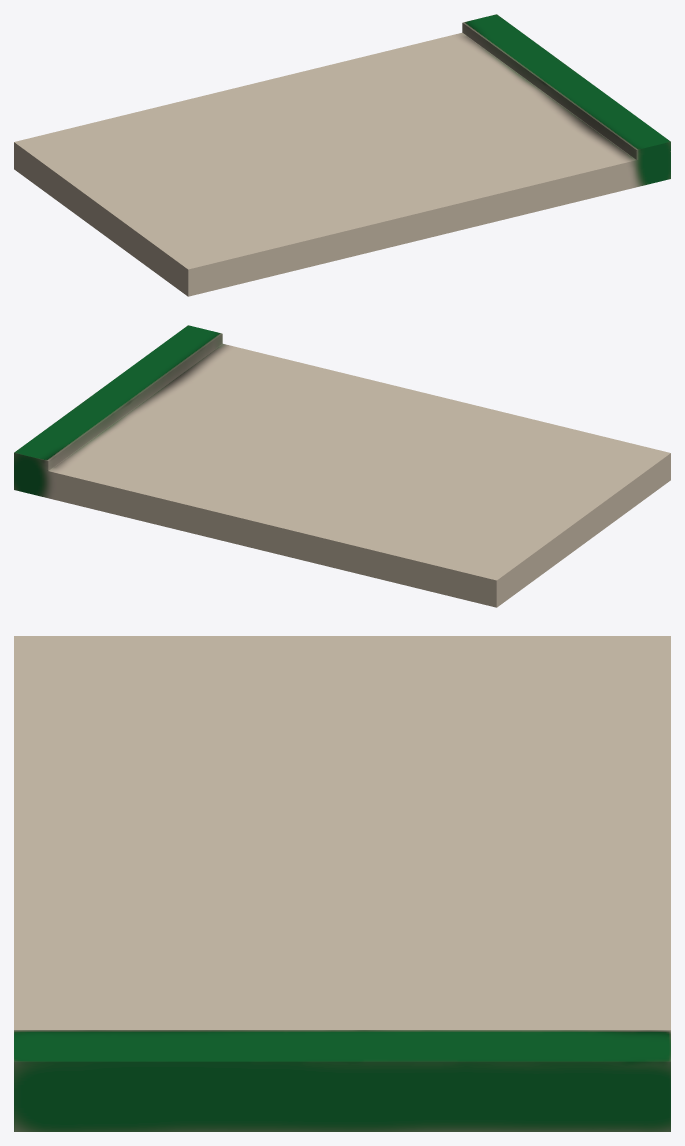
Rendered from notepad.fbx.
3 views of the same model, one above another, from view 1: azimuth 30°, elevation 25°; view 2: azimuth 150°, elevation 25°; view 3: azimuth 270°, elevation 25° (orthographic). The views are drawn at different scales.
Visible parts, largest first — view 1: Cube; view 2: Cube; view 3: Cube.
Boxes of the visible parts, x1,y1,x2,y2 form: Cube: (14,14,670,296); Cube: (14,325,670,607); Cube: (14,636,670,1131).
Bounding box in the file's own units: 566 × 41.71 × 354.
1 material, 1 textured.
